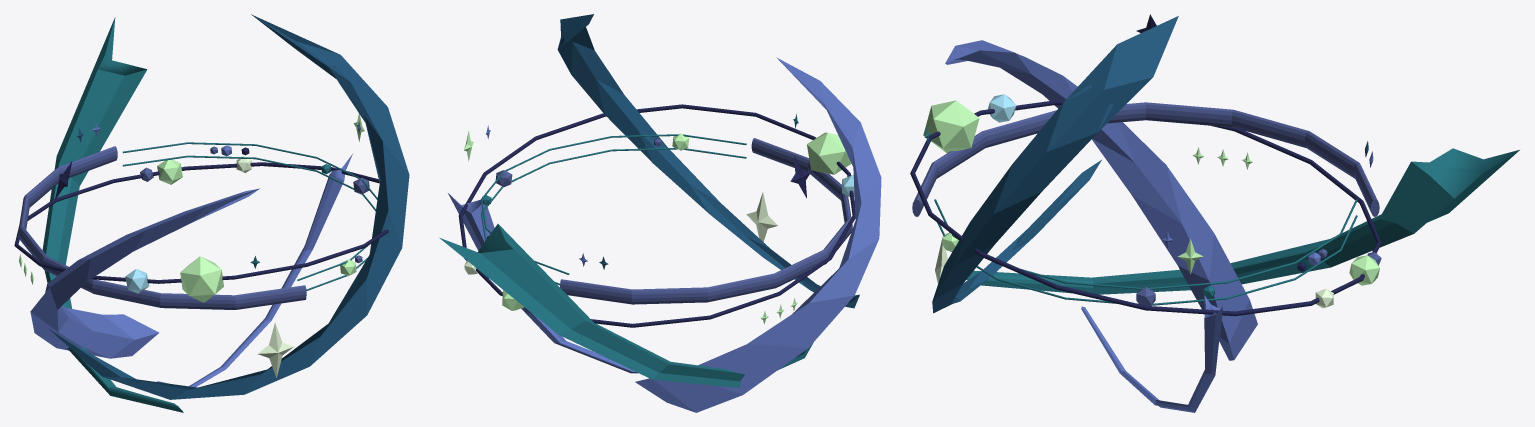
Rendered from water block band_st3.fbx.
The picture shows the model from 3 angles, left to right: view 1: azimuth 30°, elevation 25°; view 2: azimuth 150°, elevation 25°; view 3: azimuth 270°, elevation 25°; orthographic projection. The views are drawn at different scales.
Parts seen in each view (by area): view 1: Circle_013, Circle_014, Circle_015, Circle_003, star_ring1, Circle_001, Circle_002, Icosphere_009, Circle_016, Icosphere_010, Icosphere_008; view 2: Circle_014, Circle_015, Circle_013, Circle_003, star_ring1, Circle_001, Circle_002, Icosphere_009, Circle_016; view 3: Circle_013, Circle_014, Circle_015, Circle_003, star_ring1, Circle_001, Circle_002, Icosphere_009, Icosphere_010, Icosphere_008.
Part boxes in pixels (x1,y1,x2,y2): Circle_013: (48, 14, 409, 399); Circle_014: (30, 188, 259, 358); Circle_015: (42, 17, 183, 412); Circle_003: (18, 146, 306, 309); star_ring1: (14, 162, 388, 283); Circle_001: (157, 154, 352, 387); Circle_002: (122, 142, 377, 291); Icosphere_009: (180, 256, 223, 302); Circle_016: (258, 322, 293, 377); Icosphere_010: (157, 159, 182, 184); Icosphere_008: (125, 269, 149, 293); Circle_014: (635, 57, 881, 412); Circle_015: (439, 224, 812, 387); Circle_013: (557, 14, 859, 308); Circle_003: (560, 138, 852, 304); star_ring1: (458, 104, 855, 327); Circle_001: (448, 193, 638, 373); Circle_002: (480, 134, 746, 285); Icosphere_009: (807, 132, 851, 174); Circle_016: (746, 192, 777, 241); Circle_013: (932, 16, 1178, 313); Circle_014: (945, 40, 1257, 360); Circle_015: (966, 148, 1519, 294); Circle_003: (912, 102, 1379, 216); star_ring1: (910, 100, 1381, 316); Circle_001: (1081, 295, 1222, 412); Circle_002: (934, 199, 1357, 305); Icosphere_009: (923, 100, 979, 153); Icosphere_010: (1349, 255, 1379, 285); Icosphere_008: (987, 94, 1016, 122).
Size of the model in its own units: 264 by 236 by 318.
